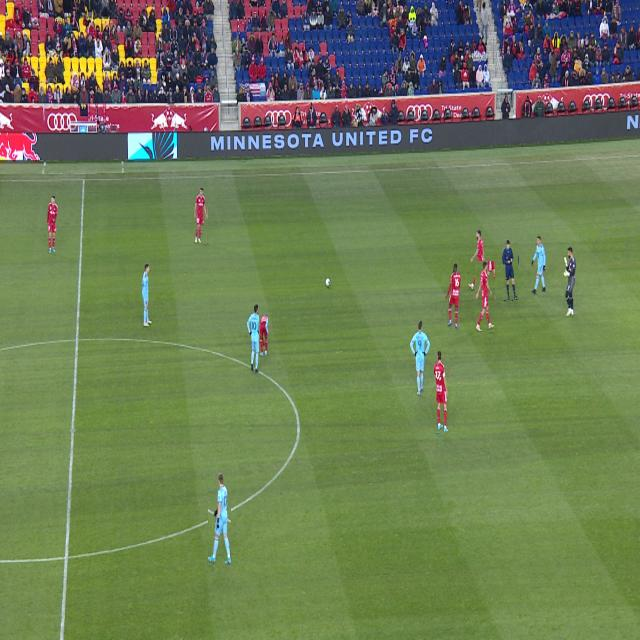football: (326, 278, 330, 287)
goalkeeper: (563, 247, 576, 316)
player: (208, 473, 231, 565), (410, 321, 430, 396), (476, 262, 495, 332), (434, 352, 449, 432), (246, 304, 263, 373), (468, 230, 486, 290), (445, 263, 461, 328), (531, 236, 546, 294), (195, 189, 207, 244), (142, 264, 152, 327), (47, 197, 58, 254), (260, 316, 268, 357)
referee: (503, 240, 518, 300)
